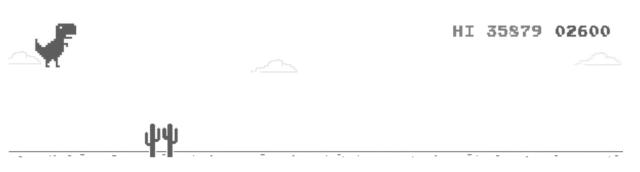cactus: (163, 124, 177, 157), (146, 124, 160, 157)
dinosaur: (36, 24, 75, 67), (146, 124, 160, 157)
